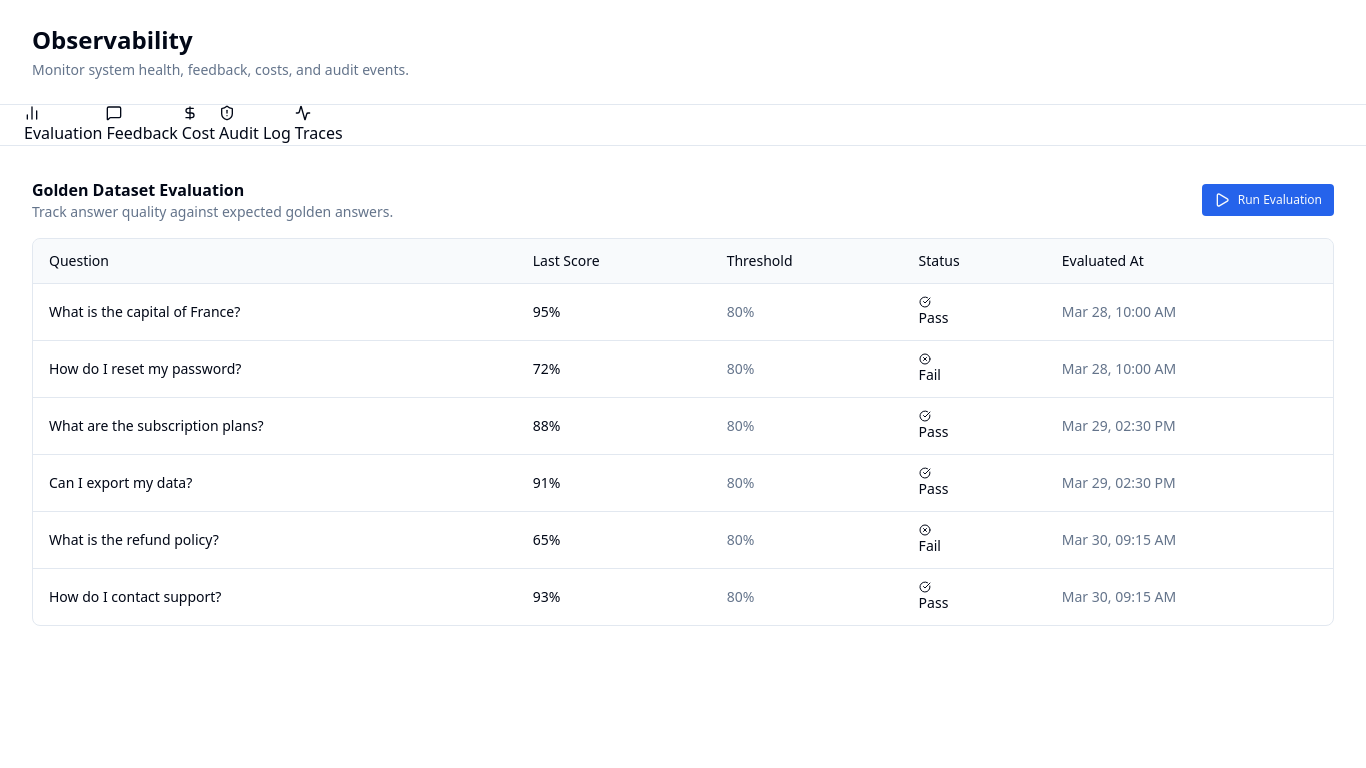
Test: ObservabilityPage — admin visibility › admin can switch to feedback tab
Click the button "Feedback".
click(142, 125)  # box [106,105,178,145]
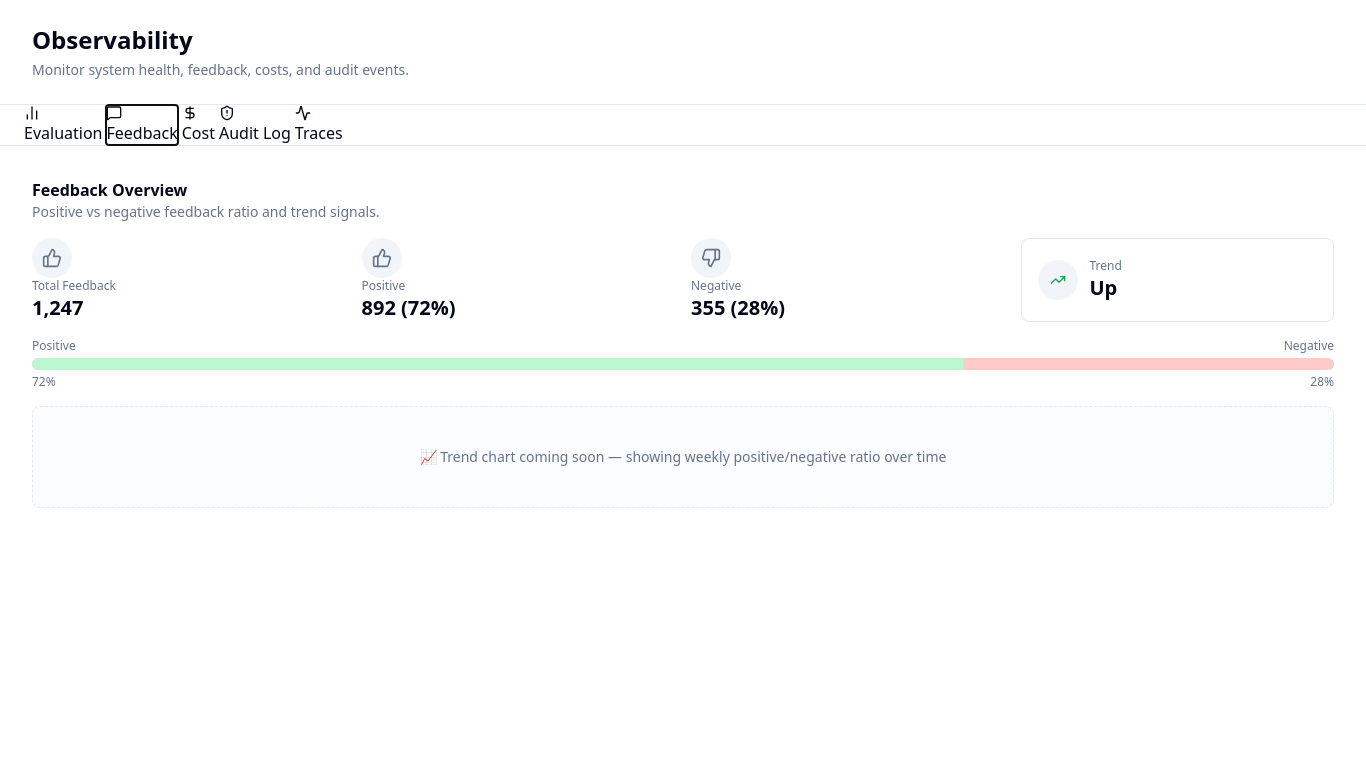
Check: the heading "Feedback Overview" is shown, box [32,179,187,201]
